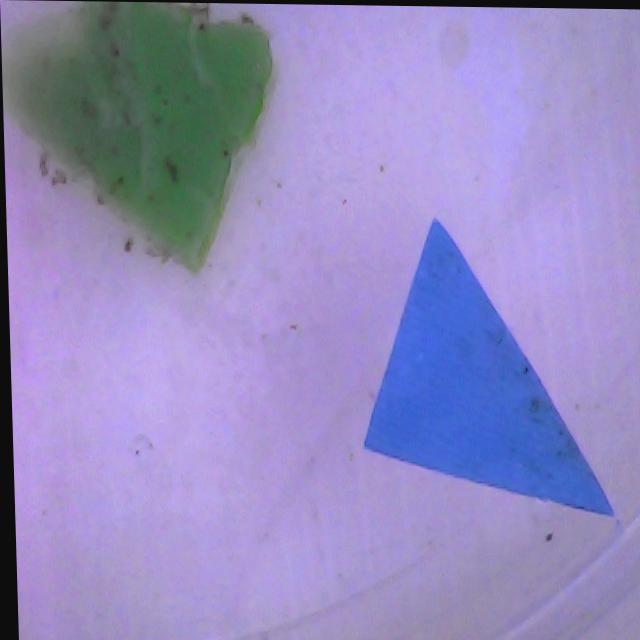microplastic: (282, 216, 620, 605), (0, 0, 289, 272)
